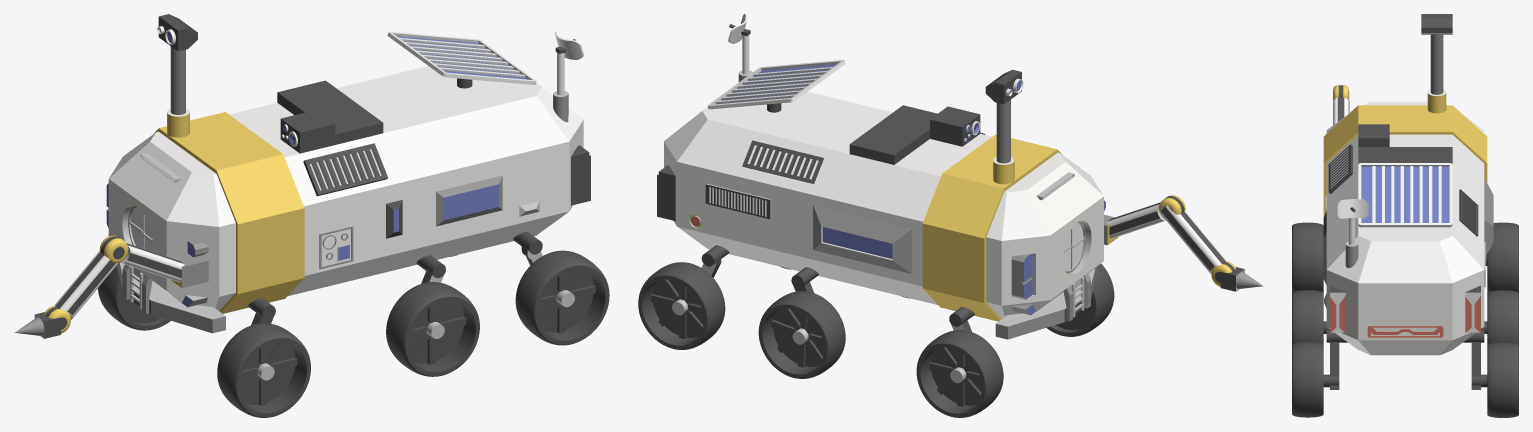
The model's file is rover_mozog.glb.
3 views of the same model, side by side, from view 1: azimuth 30°, elevation 25°; view 2: azimuth 150°, elevation 25°; view 3: azimuth 270°, elevation 25° (orthographic). The views are drawn at different scales.
Visible parts, largest first — view 1: rover2, rover2.025, rover2.023, rover2.024, rover2.022; view 2: rover2, rover2.022, rover2.021, rover2.020, rover2.025; view 3: rover2, rover2.020, rover2.023, rover2.025, rover2.022, rover2.021, rover2.024.
Part boxes in pixels (x1=…): rover2: x1=14, y1=14, x2=590, y2=338; rover2.025: x1=217, y1=323, x2=310, y2=417; rover2.023: x1=515, y1=250, x2=609, y2=345; rover2.024: x1=386, y1=282, x2=479, y2=376; rover2.022: x1=97, y1=266, x2=170, y2=330; rover2: x1=657, y1=14, x2=1263, y2=339; rover2.022: x1=916, y1=330, x2=1003, y2=417; rover2.021: x1=758, y1=291, x2=845, y2=378; rover2.020: x1=638, y1=262, x2=725, y2=349; rover2.025: x1=1046, y1=264, x2=1114, y2=336; rover2: x1=1323, y1=14, x2=1493, y2=389; rover2.020: x1=1487, y1=342, x2=1518, y2=417; rover2.023: x1=1292, y1=342, x2=1323, y2=417; rover2.025: x1=1292, y1=222, x2=1323, y2=292; rover2.022: x1=1487, y1=222, x2=1518, y2=292; rover2.021: x1=1487, y1=290, x2=1518, y2=344; rover2.024: x1=1292, y1=290, x2=1323, y2=344.
Size of the model in its own units: 17.39 by 9.61 by 7.2.
